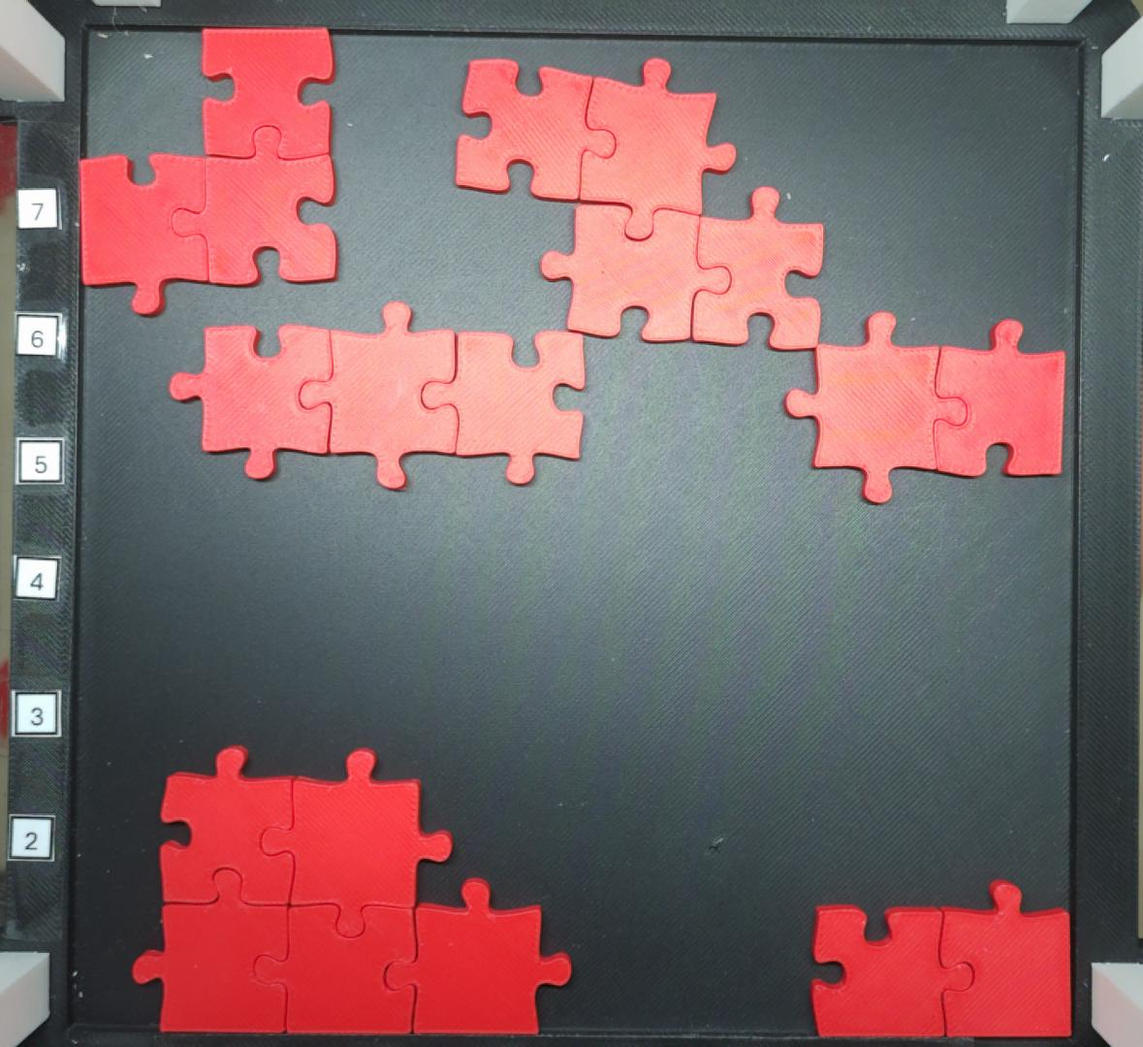p_2: (781, 311, 1065, 504), (812, 881, 1072, 1037)
p_3: (166, 302, 588, 493), (77, 24, 337, 315)
p_4: (459, 55, 823, 354)
p_m: (133, 744, 573, 1034)
